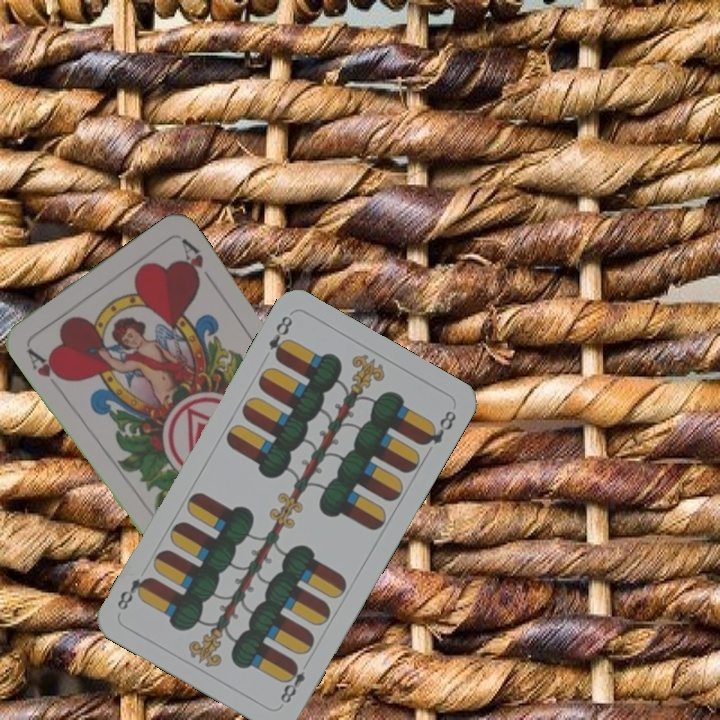E8: (264, 311, 296, 364), (276, 658, 308, 706)
HA: (23, 343, 69, 384)
